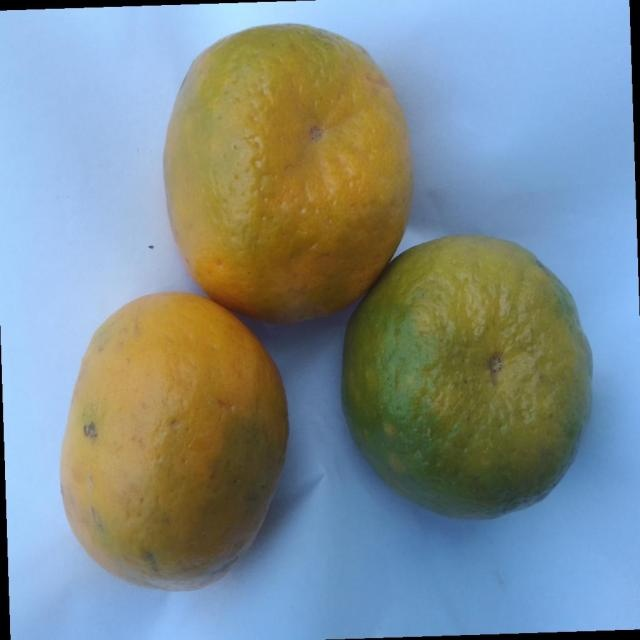agrume: (161, 21, 414, 323), (340, 232, 594, 521), (58, 290, 290, 591)
